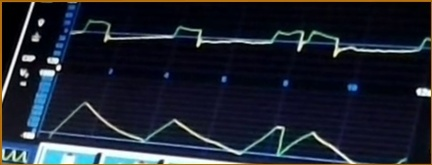Double_Triggering Flow: (77, 7, 430, 67)
Double_Triggering Volume: (50, 92, 357, 164)
